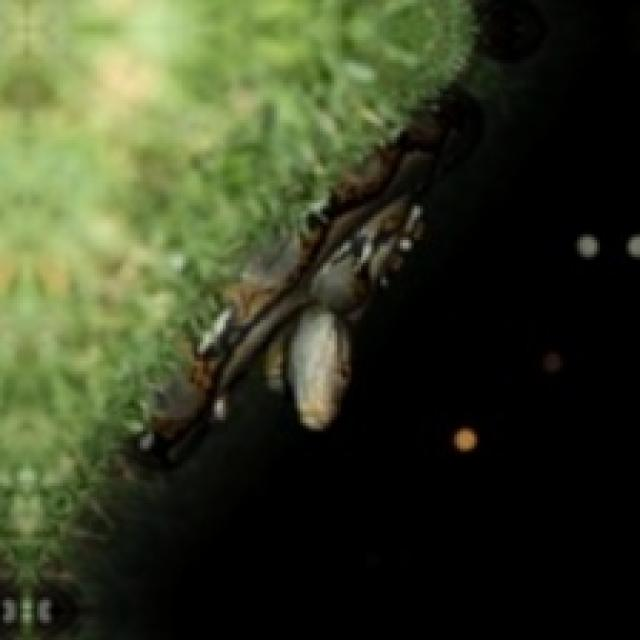reticulated python: (137, 86, 480, 466)
